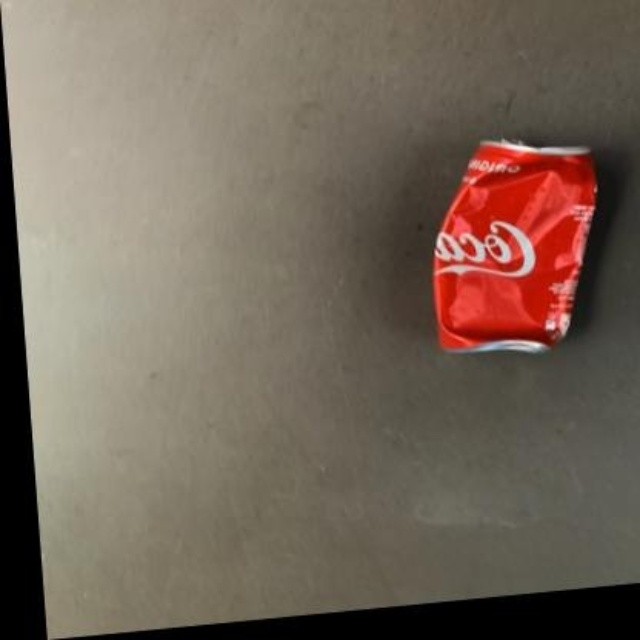trash: (434, 142, 595, 351)
